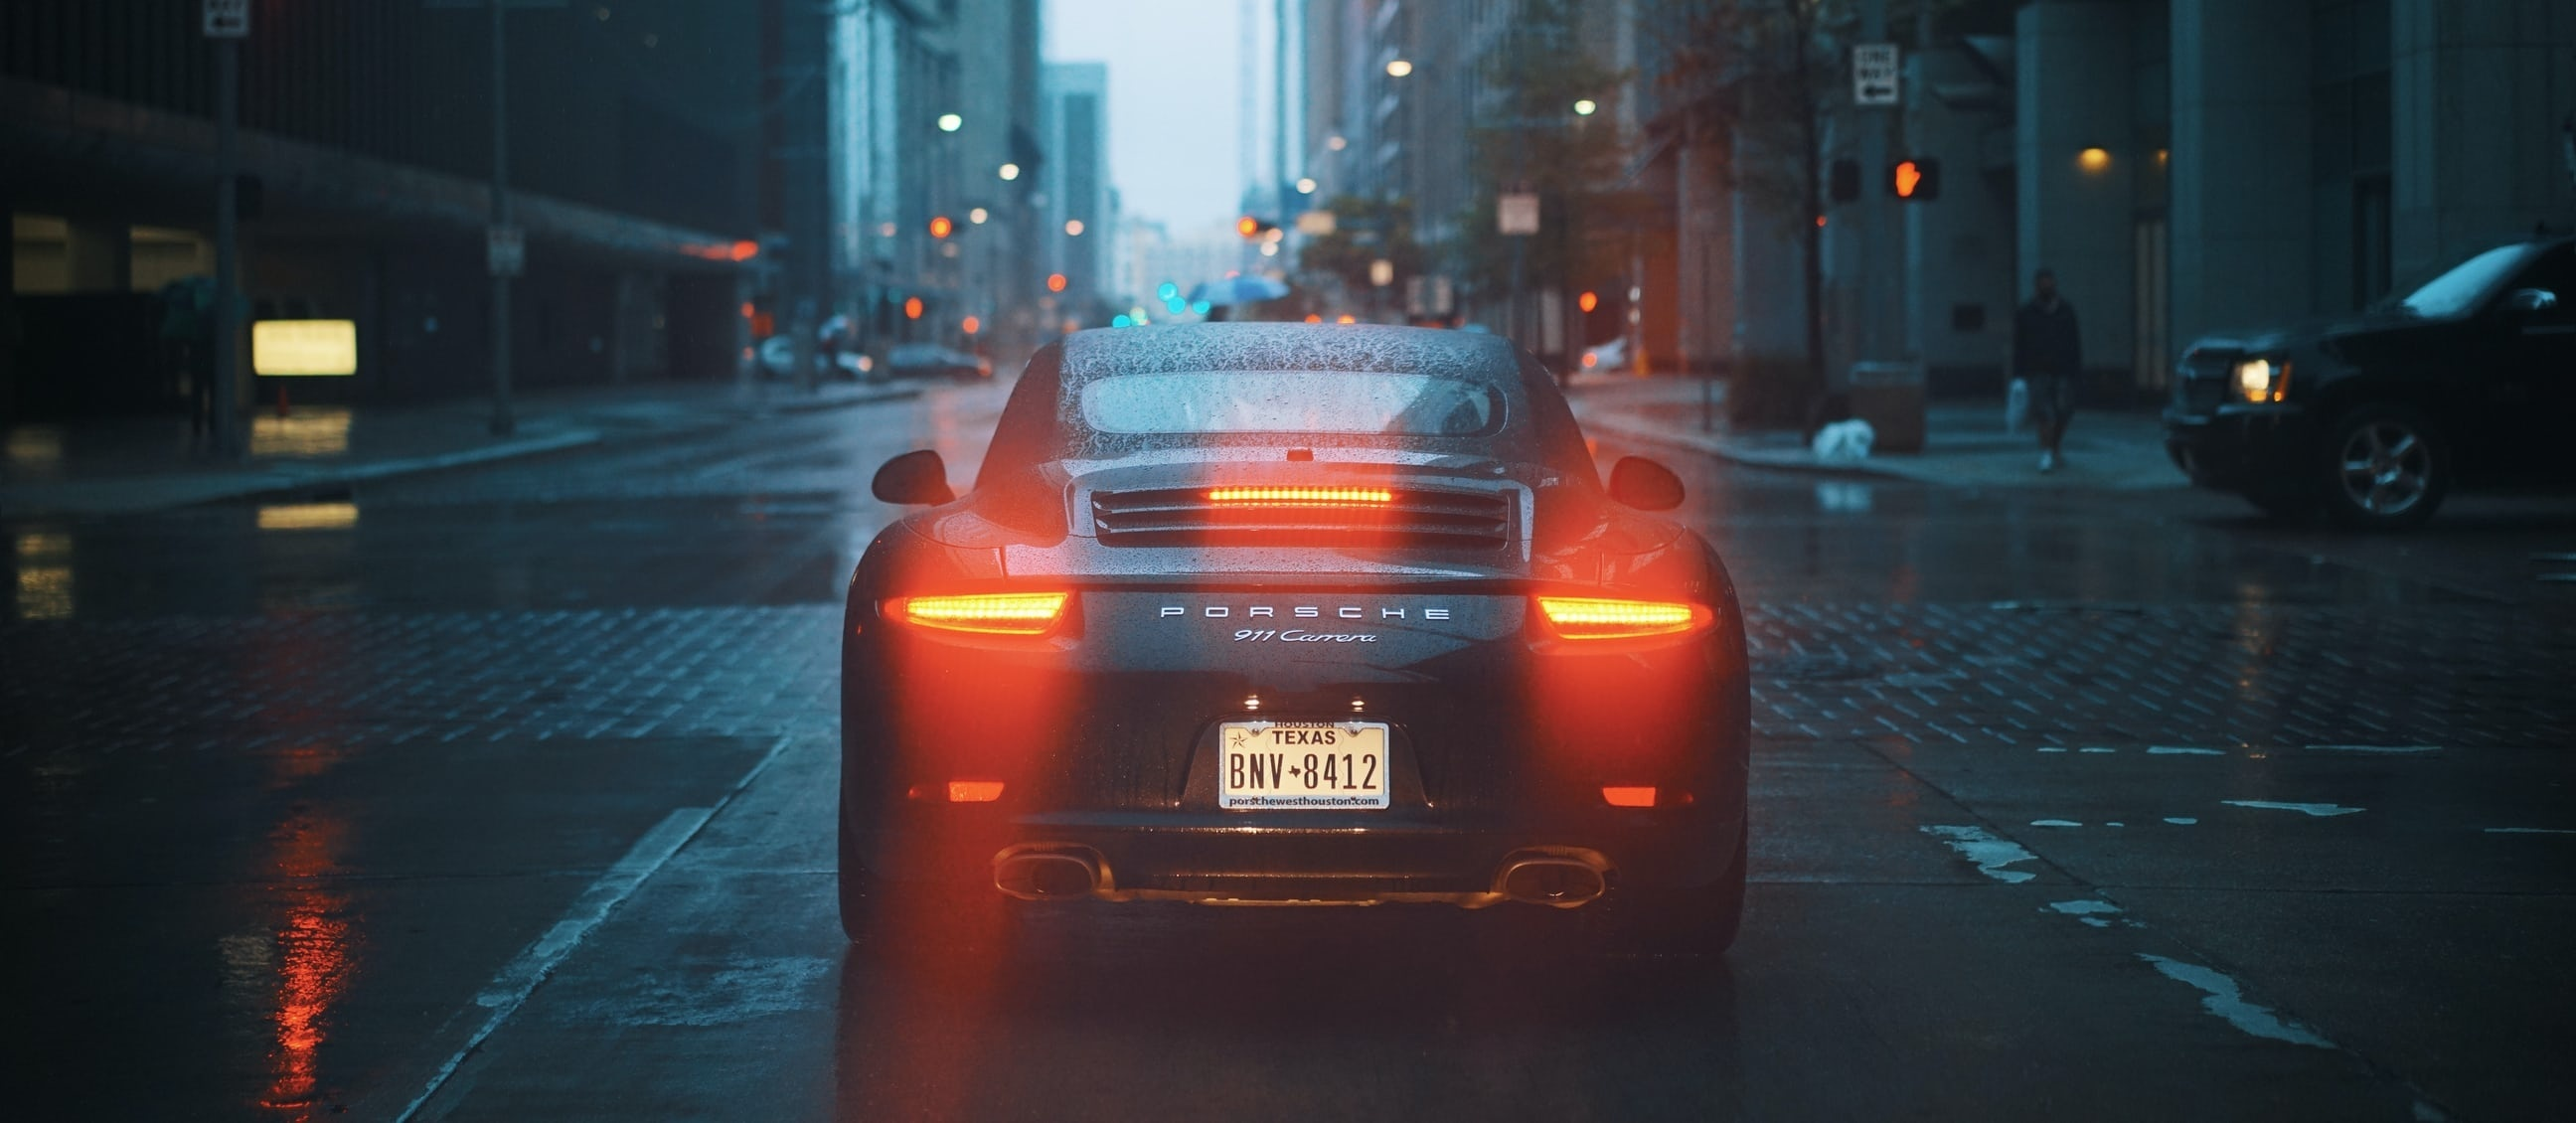plaka: (1217, 721, 1390, 811)
